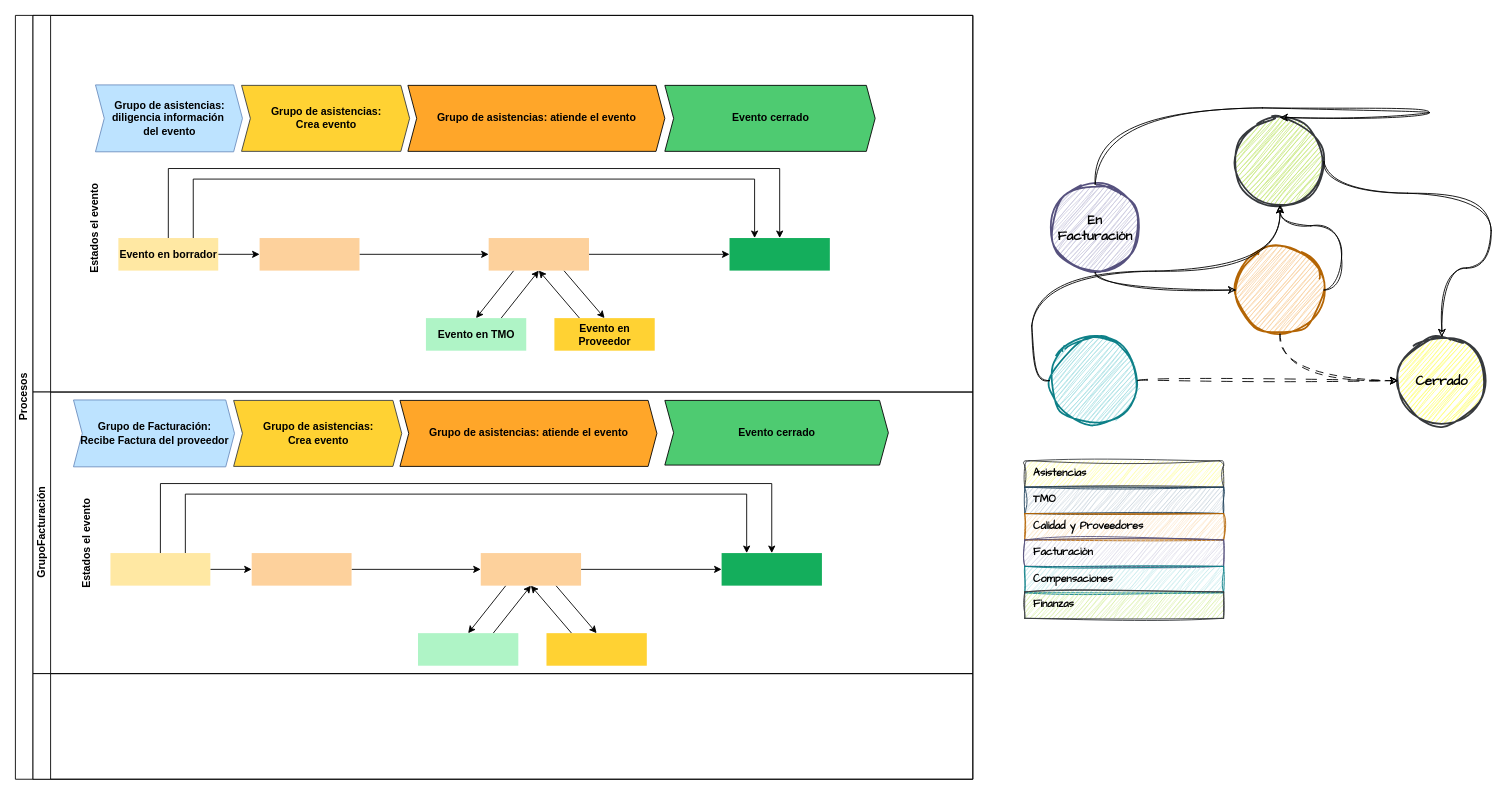
Image size: 1507x795. Some labels were removed from this diagram. The box of each missing label's shape, as (x1, y1, x2, y2) in pixels:
En Compensaciones: (1048, 335, 1138, 425)
En espera de Pago: (1235, 116, 1324, 206)
En Revision: (1235, 245, 1324, 334)
Evento Creado: (259, 238, 359, 270)
Evento en Proceso: (488, 238, 589, 270)
Evento Finalizado: (729, 238, 829, 270)
Grupo Asistencias: (32, 15, 973, 392)
Lane 3: (32, 673, 973, 779)
